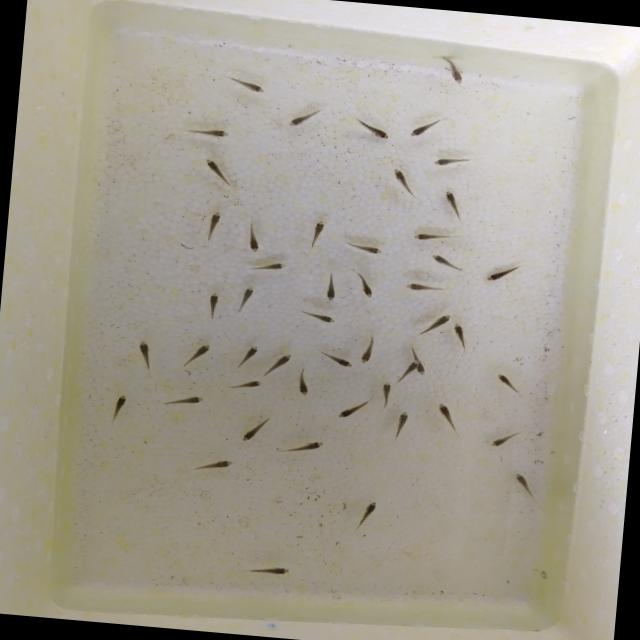fingerling: (428, 50, 473, 88), (345, 112, 397, 144), (186, 452, 244, 480), (404, 112, 450, 144), (226, 72, 274, 101), (432, 182, 468, 220), (232, 414, 274, 446), (202, 154, 238, 190), (284, 101, 326, 131), (161, 388, 210, 412), (197, 208, 231, 242), (301, 215, 334, 250), (482, 260, 526, 286), (181, 338, 218, 368), (240, 220, 269, 258), (424, 248, 466, 274), (426, 150, 475, 172), (409, 226, 458, 247), (387, 164, 418, 197), (104, 391, 135, 424), (251, 558, 293, 582), (348, 271, 381, 301), (432, 399, 462, 432), (286, 435, 327, 459), (482, 427, 520, 452), (343, 238, 386, 260), (262, 349, 292, 380), (353, 497, 382, 528), (510, 468, 538, 500), (132, 337, 158, 371), (333, 398, 368, 423), (233, 341, 264, 368), (422, 306, 454, 332), (401, 279, 447, 297), (232, 284, 259, 314), (295, 308, 342, 325), (188, 122, 232, 140), (248, 258, 291, 276), (318, 271, 342, 303), (388, 410, 411, 441), (492, 366, 518, 393), (322, 349, 355, 370), (358, 334, 380, 364), (228, 375, 266, 392), (202, 290, 225, 318), (292, 366, 312, 396), (376, 378, 395, 408), (396, 356, 416, 382), (452, 319, 469, 347), (416, 358, 430, 376)
